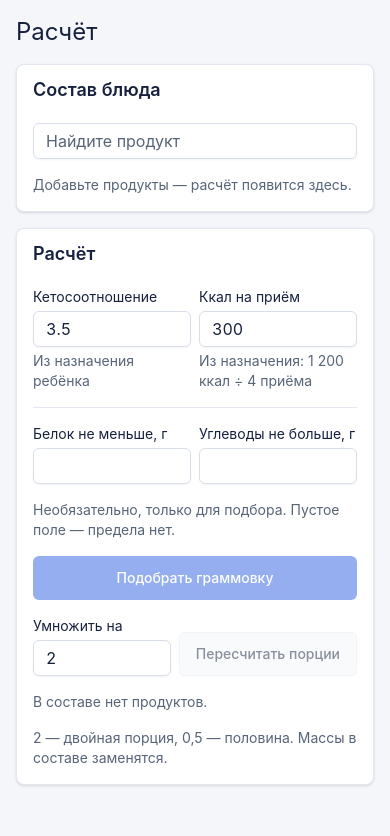
Test: калькулятор в Mini App › сбой проверки можно повторить — без фиктивной правки состава
This screenshot has width=390, height=836.
Step 1. Type "масло" into the search field labelled "Найдите продукт" → (195, 141), box x1=33 y1=123 x2=357 y2=159
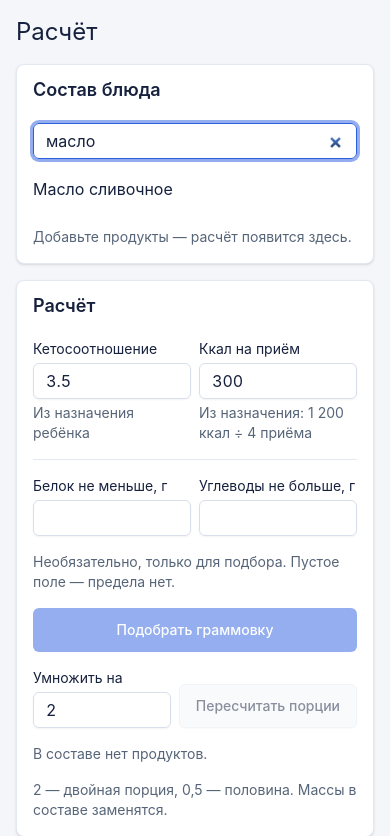
Step 2. Click the button "Масло сливочное" → (103, 189), box x1=33 y1=167 x2=357 y2=211
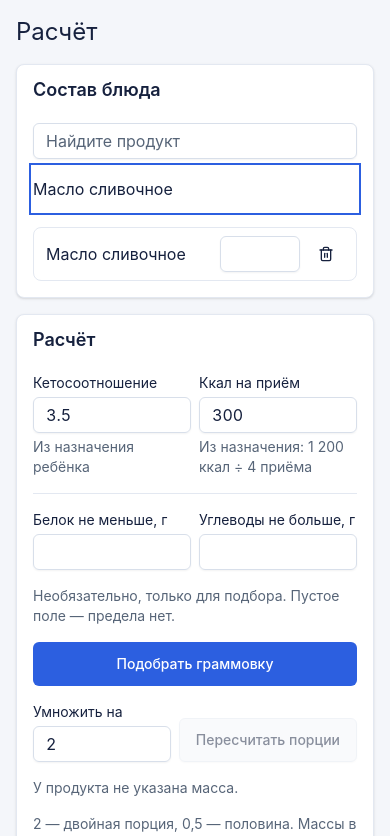
Step 3. Type "30" into the field named "Масло сливочное, граммы" → (260, 254), box x1=220 y1=236 x2=300 y2=272
(page scrolled)
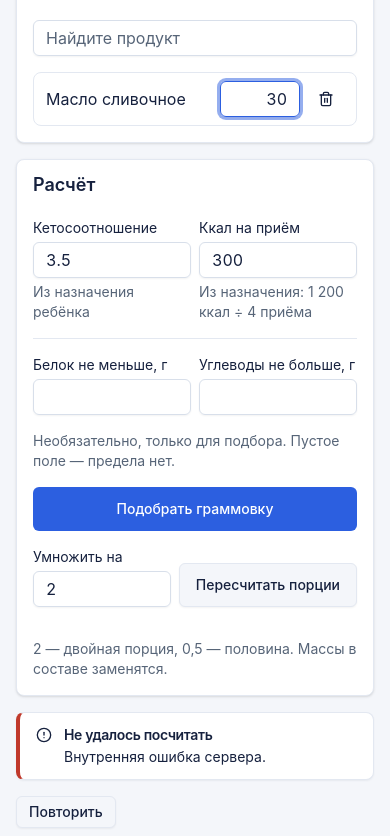
Step 4. Click the button "Повторить" → (66, 812), box x1=16 y1=796 x2=116 y2=828
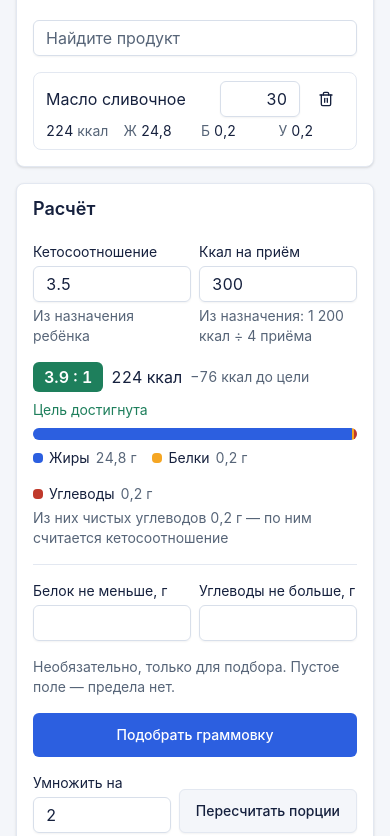
Expected: the text "224 ккал" is shown, x1=111 y1=365 x2=182 y2=389
Expected: the text "Внутренняя ошибка сервера." is gone
